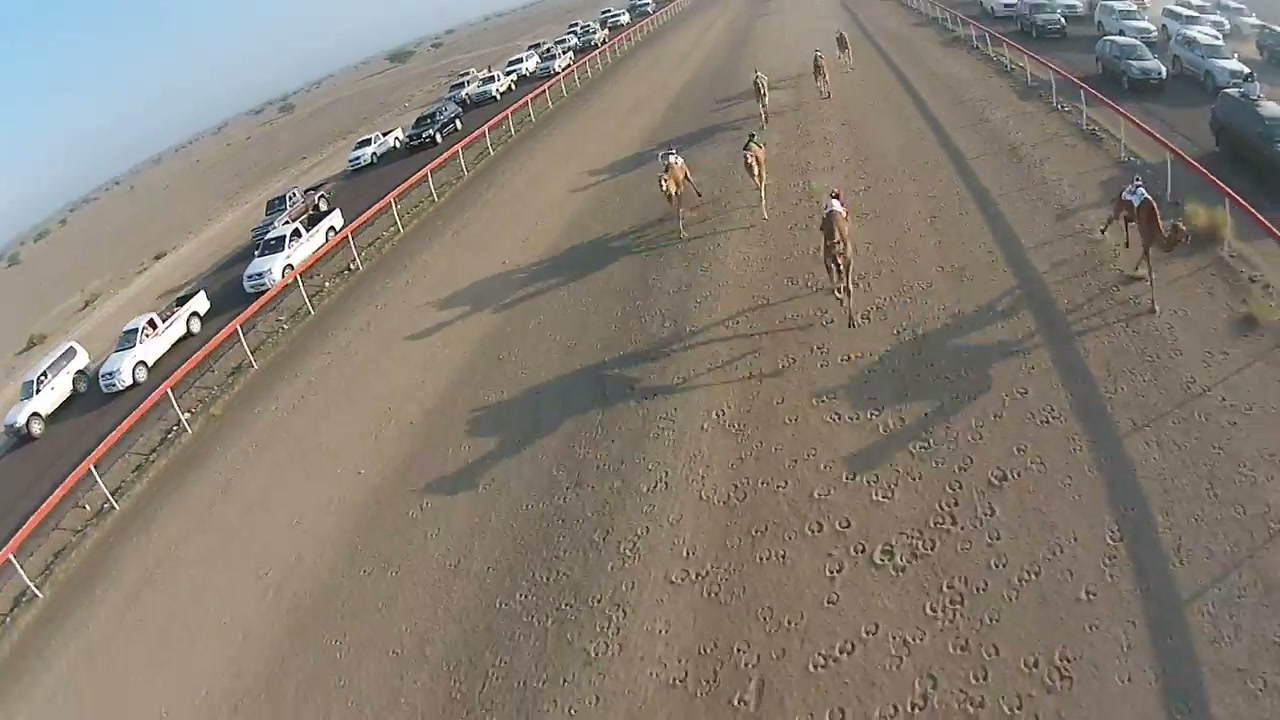animal_foot_print: (593, 302, 1108, 708)
